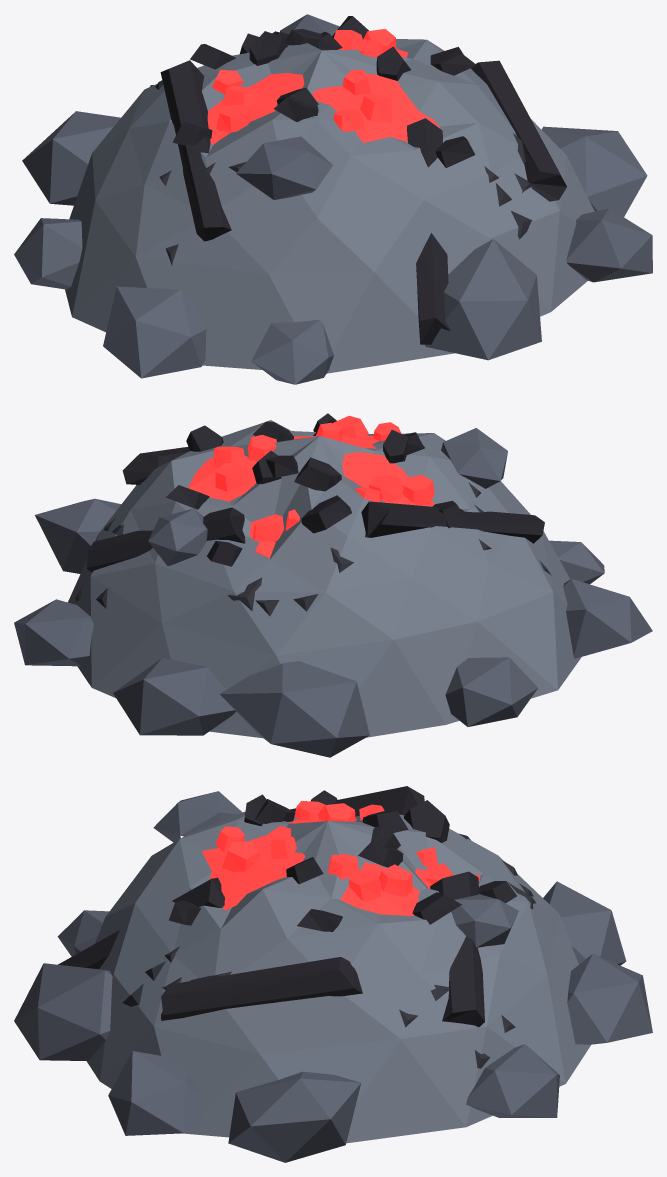
File: smouldering_ash_heap.glb
3 views of the same model, one above another, from view 1: azimuth 30°, elevation 25°; view 2: azimuth 150°, elevation 25°; view 3: azimuth 270°, elevation 25° (orthographic). The views are drawn at different scales.
Parts seen in each view (by area): view 1: ash-heap, embers; view 2: ash-heap, embers; view 3: ash-heap, embers.
Boxes of the visible parts, bbox=[...] form: ash-heap: bbox=[14, 14, 652, 384]; embers: bbox=[207, 29, 440, 144]; ash-heap: bbox=[14, 413, 652, 757]; embers: bbox=[188, 416, 434, 557]; ash-heap: bbox=[14, 786, 652, 1162]; embers: bbox=[202, 801, 480, 915].
Size of the model in its own units: 1.96 by 0.6755 by 1.91.
